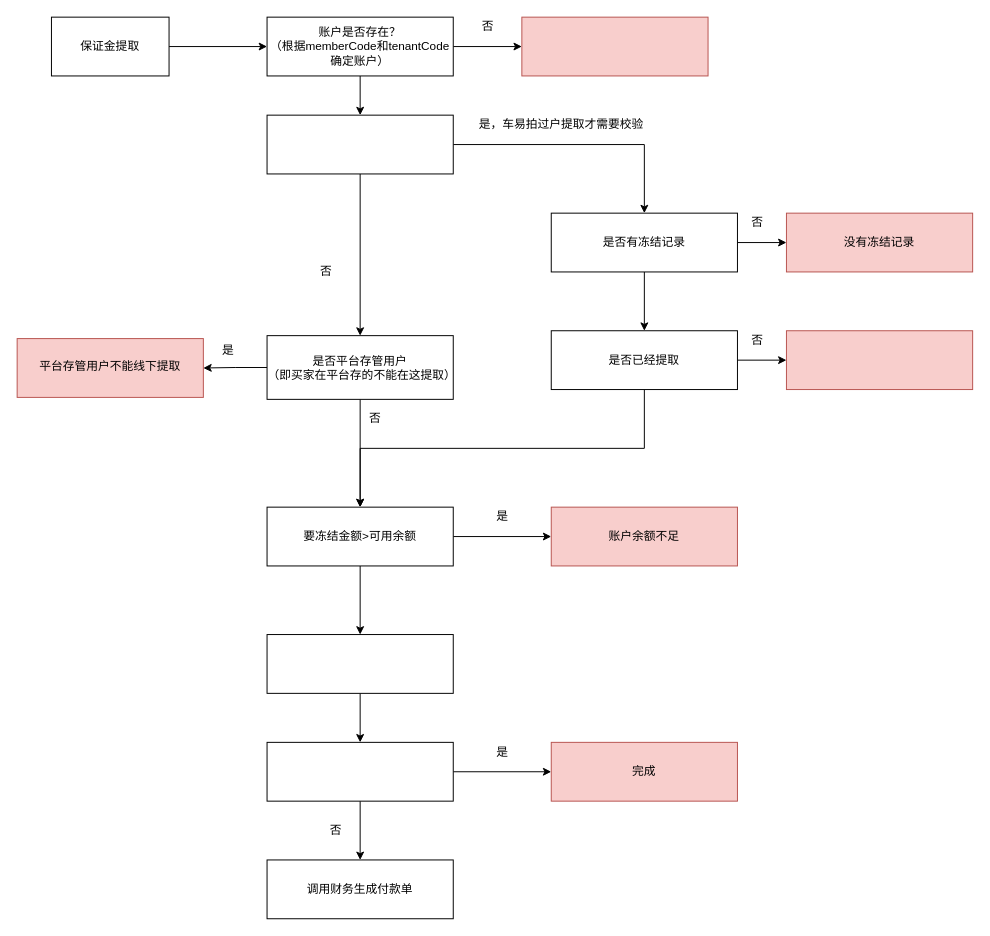
Image size: 990x936. Some labels were removed from this diagram. The box of each missing label's shape, as (x1, y1, x2, y2) in pixels:
已经提取: (785, 330, 973, 390)
提取是否需要校验: (266, 114, 453, 174)
新建提取单（待付款） 减少账户的总额和可用金额: (266, 634, 453, 693)
是否从财务系统来的请求: (266, 741, 453, 801)
账户不存在: (521, 16, 708, 76)
